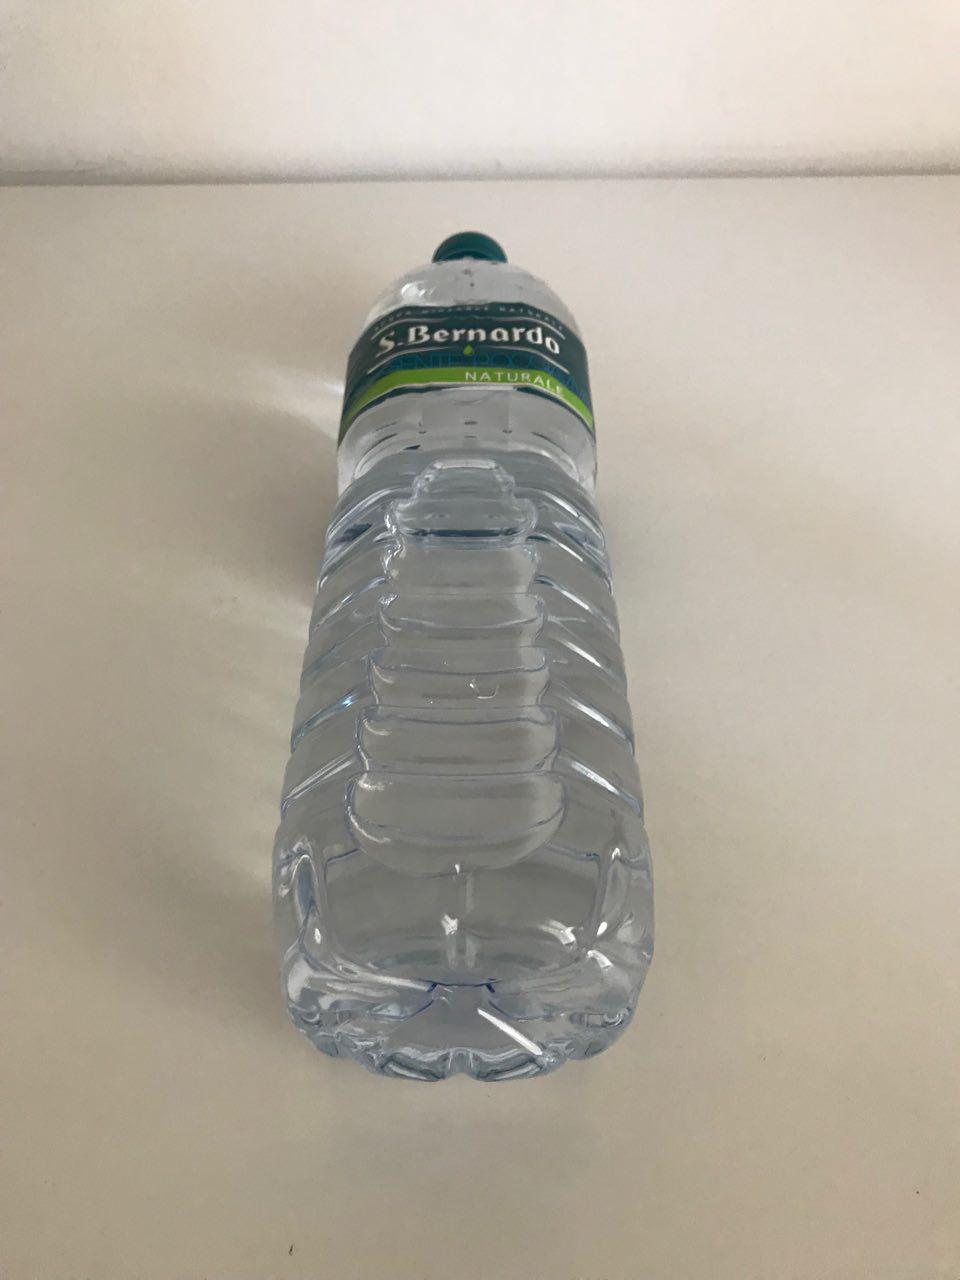san_bernardo: (269, 227, 658, 1087)
